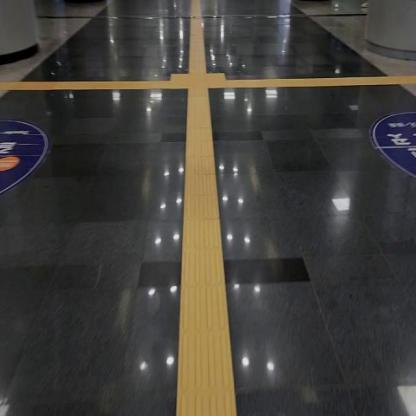podotacti: (175, 90, 236, 415), (159, 58, 236, 108), (0, 80, 169, 94), (226, 77, 416, 88), (188, 0, 209, 75)
